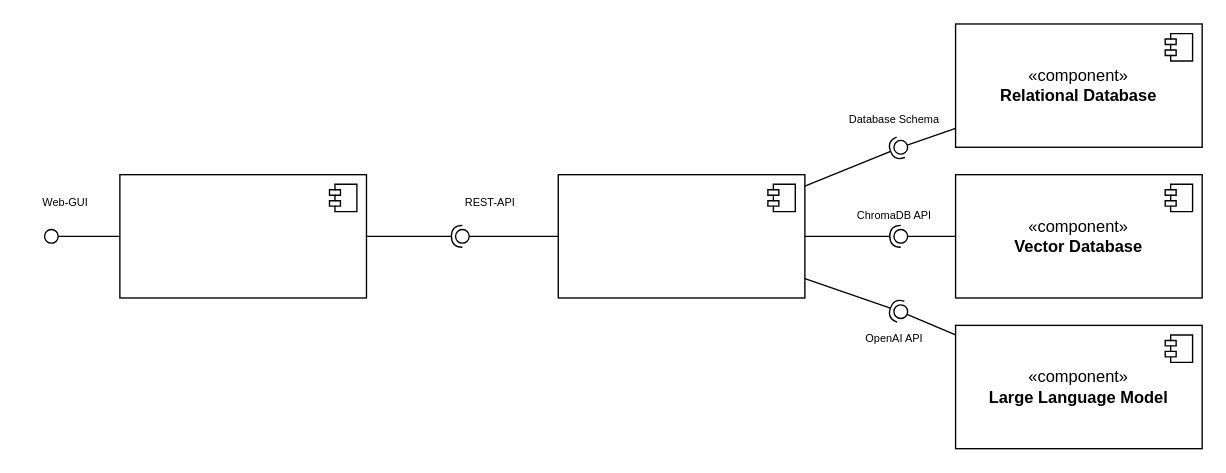
This 1226x473 diagram has some shape labels left out. Here are the shapes that lost their labels. From the top down, the centre of each, then its label:
the point at 242,235: «component» Web-Client
the point at 681,235: «component» Server
